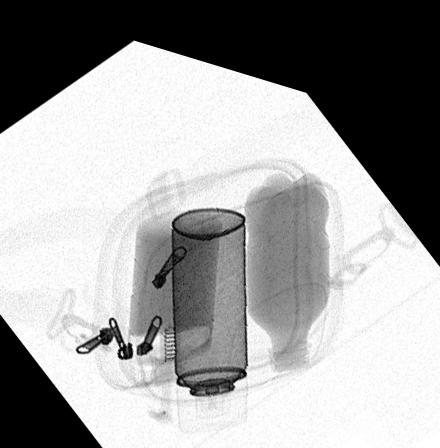Sprayer: (170, 196, 247, 421)
